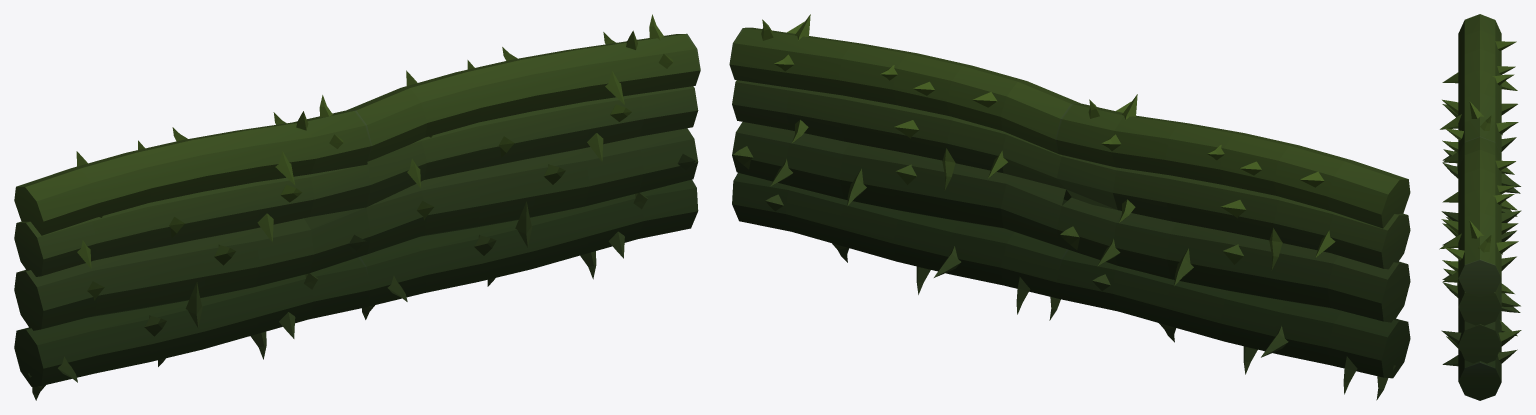
Rendered from SM_Hazard_Vine_Spike_Wall_000.fbx.
3 views of the same model, side by side, from view 1: azimuth 30°, elevation 25°; view 2: azimuth 150°, elevation 25°; view 3: azimuth 270°, elevation 25° (orthographic). The views are drawn at different scales.
Parts seen in each view (by area): view 1: SM_Hazard_Vine_Spike_Wall_000; view 2: SM_Hazard_Vine_Spike_Wall_000; view 3: SM_Hazard_Vine_Spike_Wall_000.
Part boxes in pixels (left/top/right/bottom): SM_Hazard_Vine_Spike_Wall_000: left=14, top=14, right=700, bottom=400; SM_Hazard_Vine_Spike_Wall_000: left=729, top=14, right=1410, bottom=400; SM_Hazard_Vine_Spike_Wall_000: left=1439, top=14, right=1521, bottom=400.
Size of the model in its own units: 9.79 by 3.4 by 1.43.
